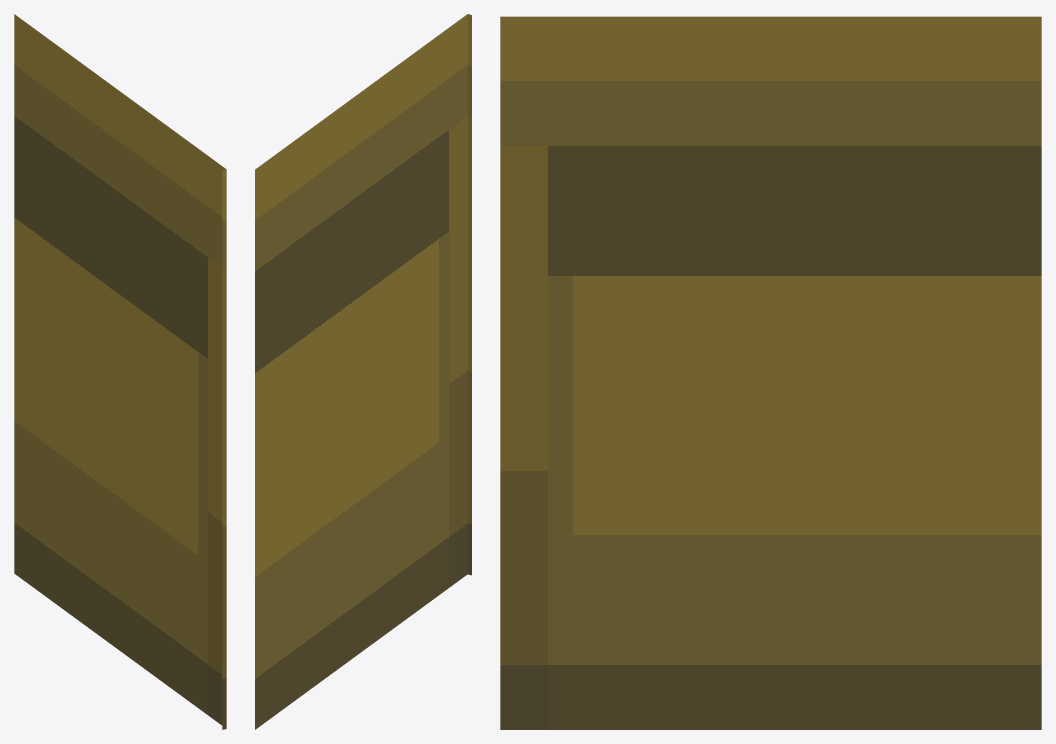
The picture shows the model from 3 angles, left to right: view 1: azimuth 30°, elevation 25°; view 2: azimuth 150°, elevation 25°; view 3: azimuth 270°, elevation 25°; orthographic projection. The views are drawn at different scales.
Bounding box in the file's own units: 0.00781 × 1 × 0.6875.
Materials: 1 (1 with a texture image).
